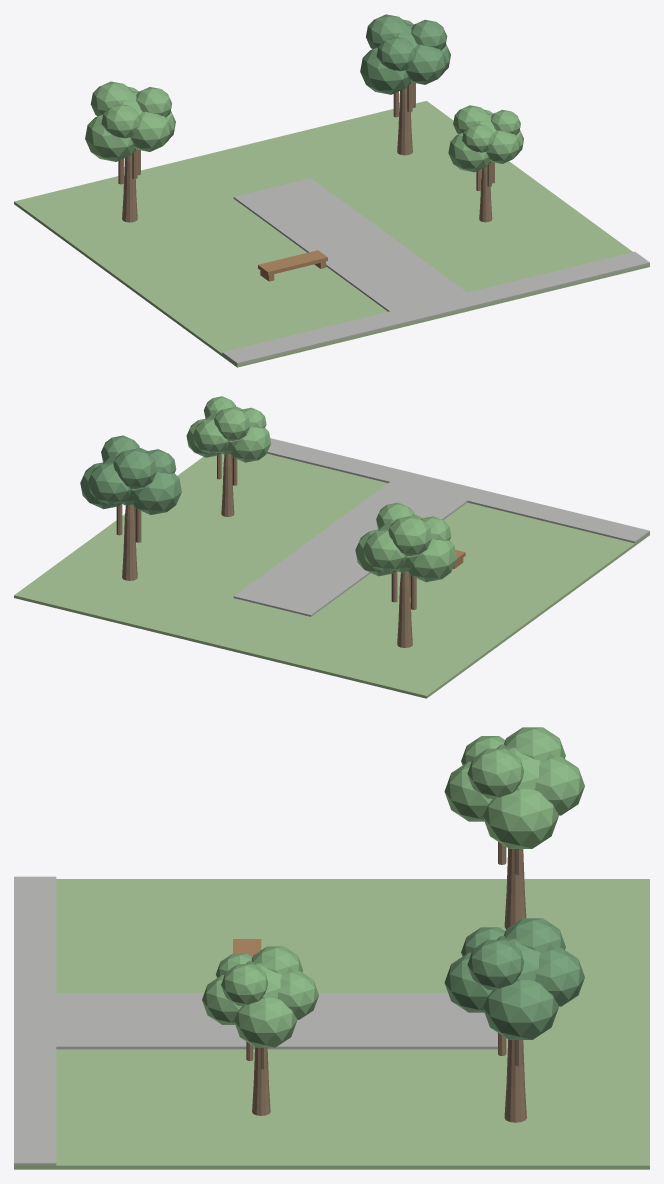
Rendered from park.fbx.
3 views of the same model, one above another, from view 1: azimuth 30°, elevation 25°; view 2: azimuth 150°, elevation 25°; view 3: azimuth 270°, elevation 25° (orthographic). The views are drawn at different scales.
Visible parts, largest first — view 1: park; view 2: park; view 3: park.
Part boxes in pixels (x1,y1,x2,y2): park: (14, 14, 649, 367); park: (14, 396, 649, 698); park: (14, 727, 649, 1169).
Bounding box in the file's own units: 960 × 303 × 900.
